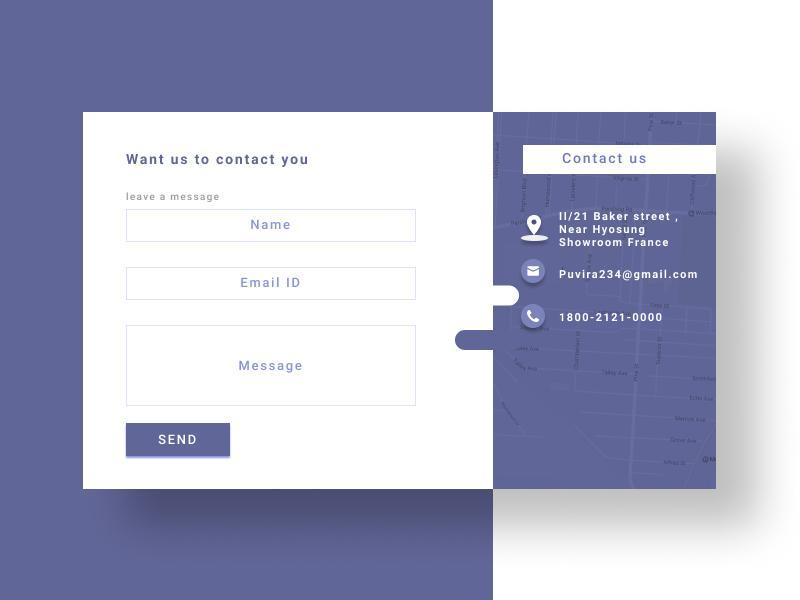button: (126, 268, 418, 300), (128, 212, 417, 241), (127, 423, 231, 458)
icon: (523, 209, 550, 245), (524, 308, 543, 326), (529, 265, 542, 280)
